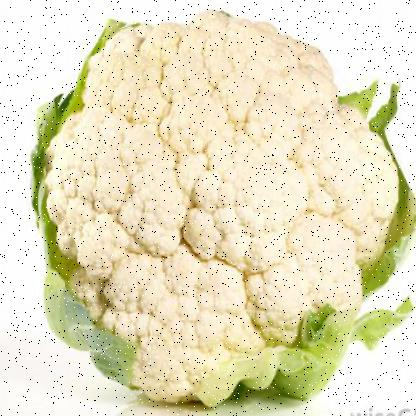cauliflower: (36, 15, 409, 393)
